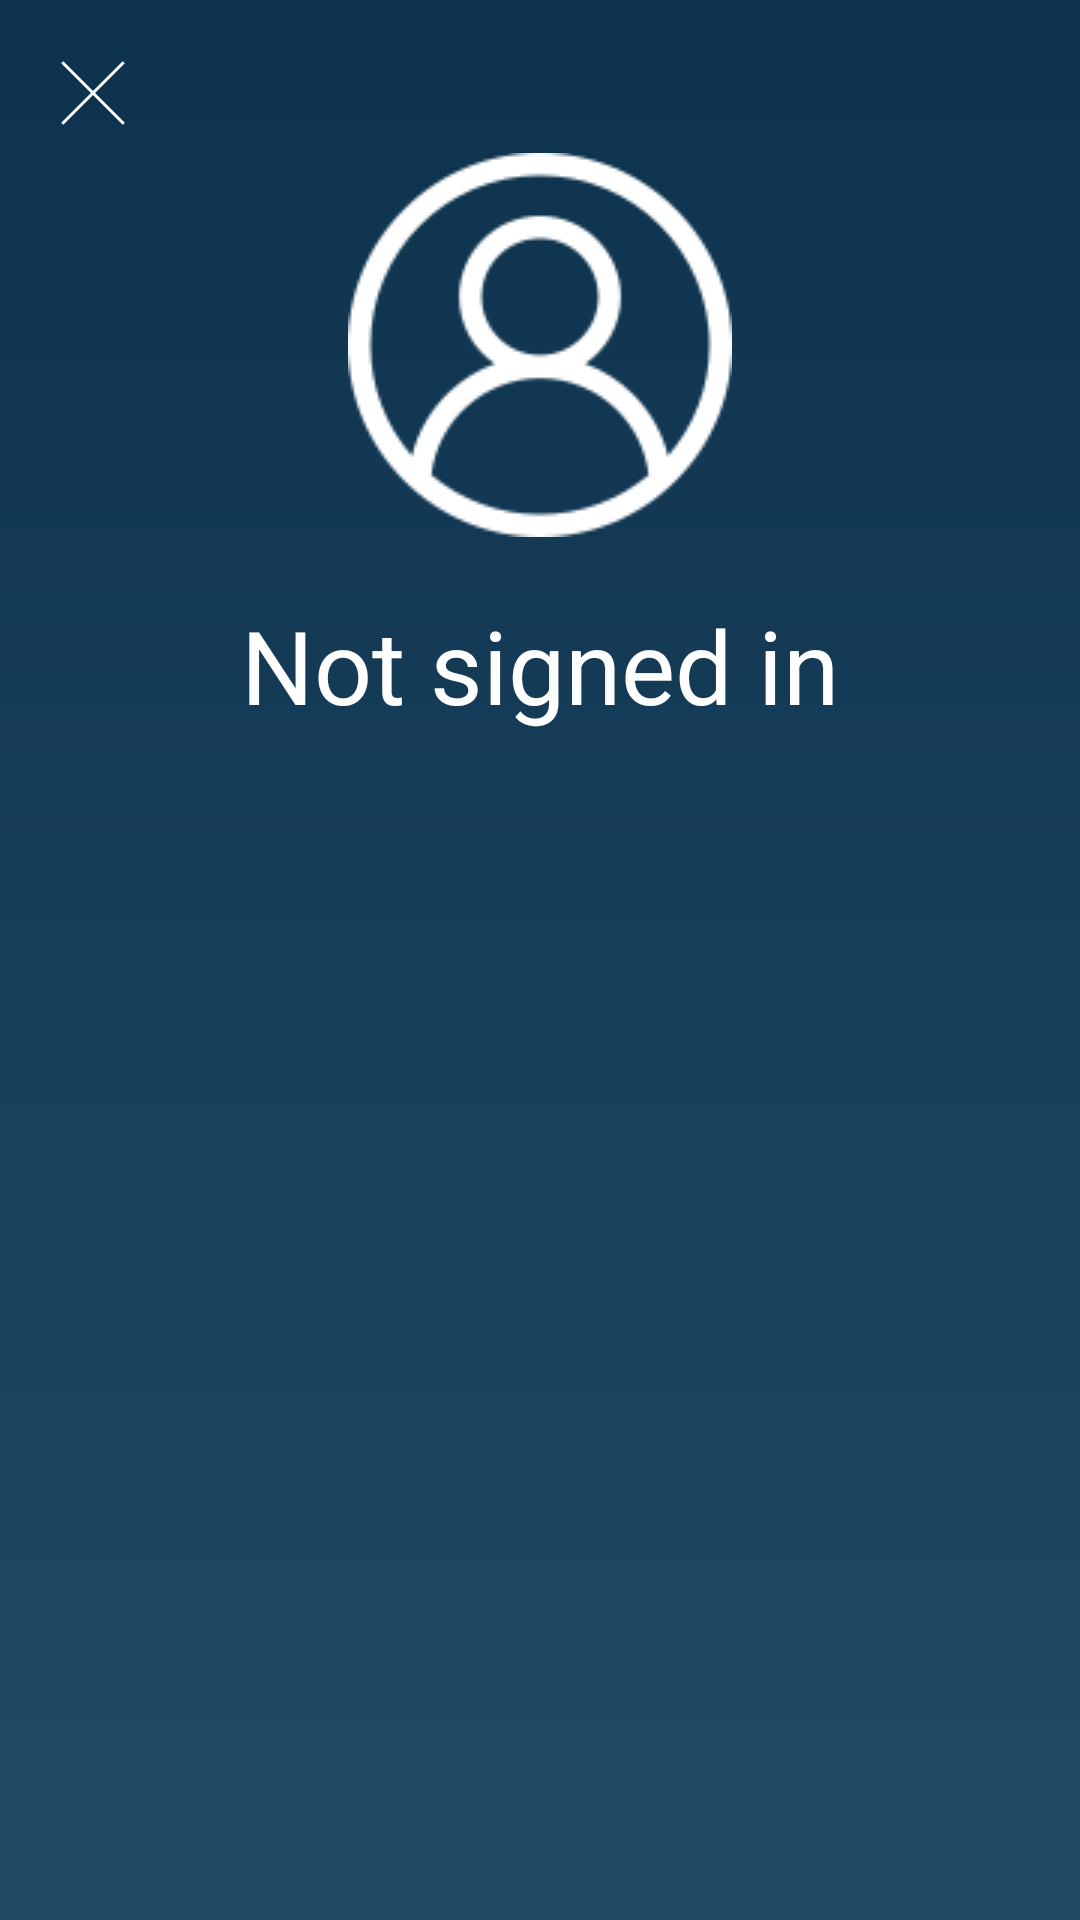

Icon bounding boxes for this 1080*1920 phone screenshot, format box(x1, y1, x2, y2):
close: box(61, 61, 125, 125)
